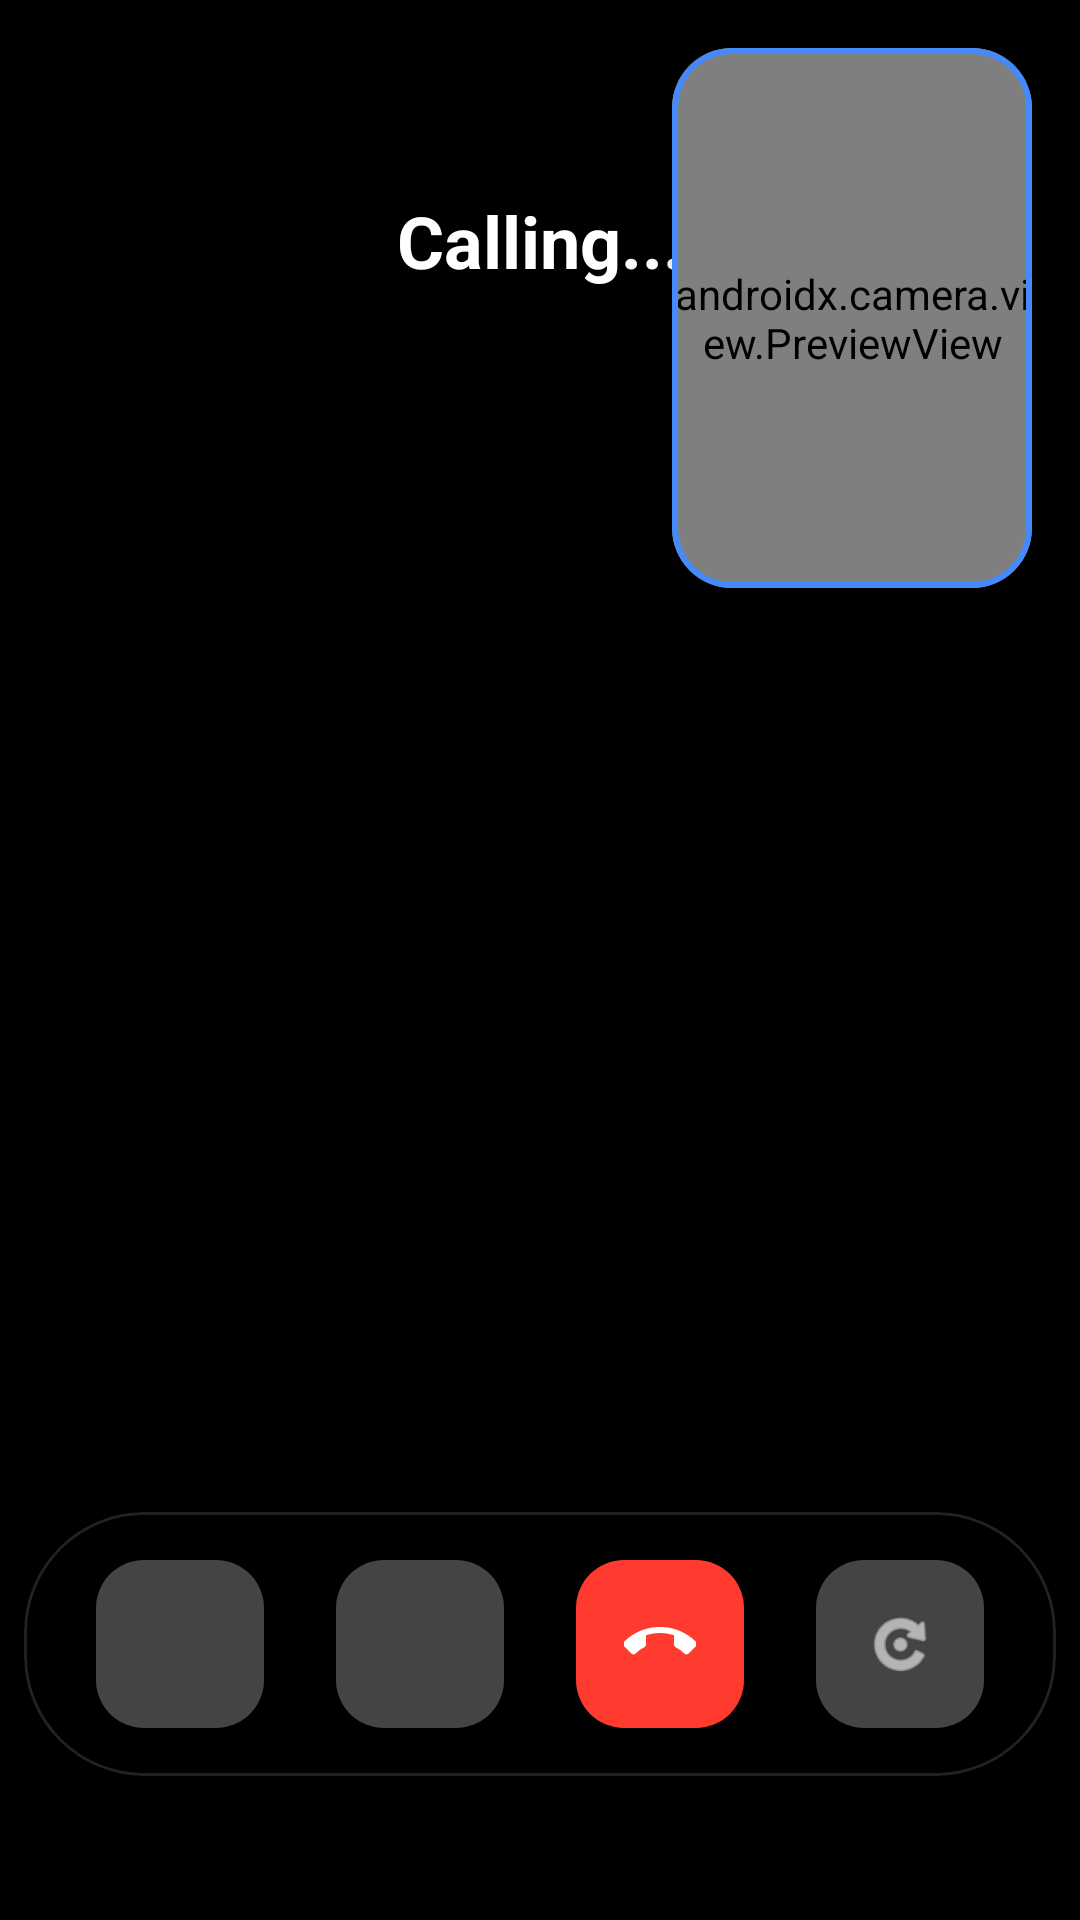

Named icons in this screenshot (1080w x 1920h) and their centers, (x=x, y=y):
end call insta: (x=660, y=1644)
rotate: (x=900, y=1644)
